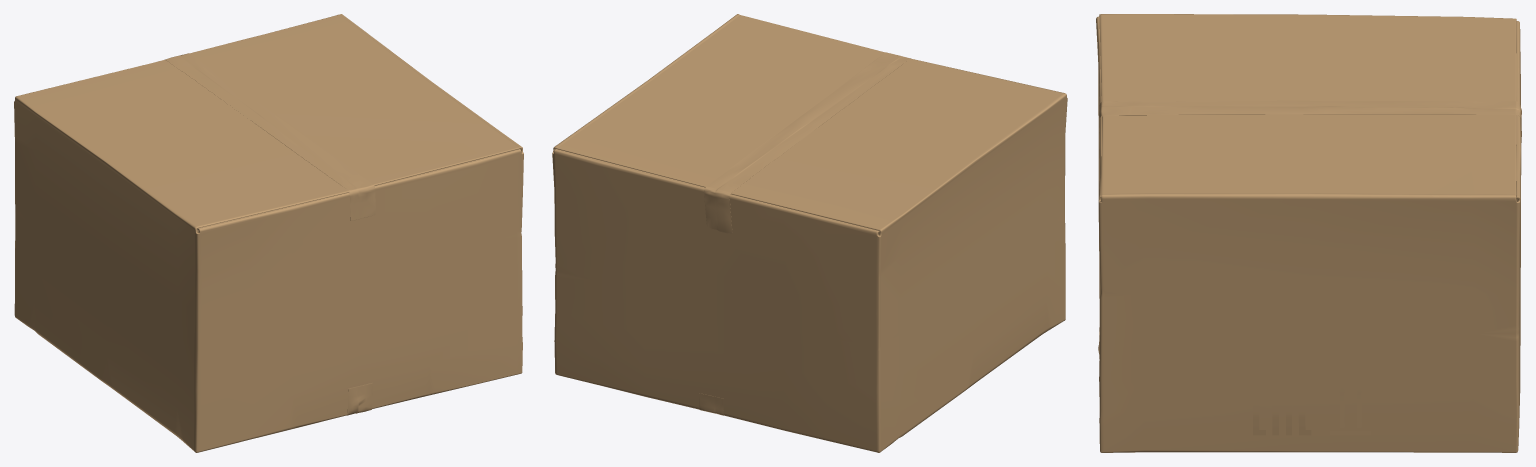
The model's file is box_corrugated_white_a34.glb.
The picture shows the model from 3 angles, left to right: view 1: azimuth 30°, elevation 25°; view 2: azimuth 150°, elevation 25°; view 3: azimuth 270°, elevation 25°; orthographic projection. The views are drawn at different scales.
Size of the model in its own units: 0.1555 by 0.1028 by 0.1523.
